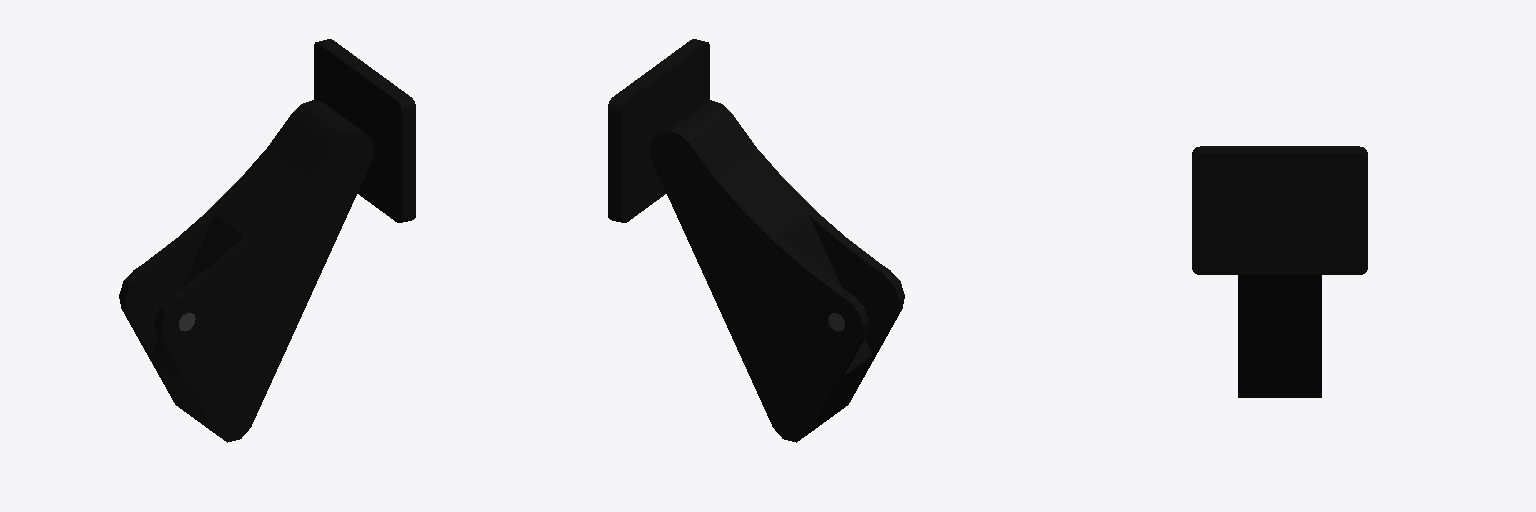
The model's file is ExSupportLegR.obj.
3 views of the same model, side by side, from view 1: azimuth 30°, elevation 25°; view 2: azimuth 150°, elevation 25°; view 3: azimuth 270°, elevation 25° (orthographic).
Parts seen in each view (by area): view 1: instance_0_ID5, group_1.001_ID42; view 2: instance_0_ID5, group_1.001_ID42; view 3: group_1.001_ID42, instance_0_ID5.
Boxes of the visible parts, box(x1,y1,x2,y2) form: instance_0_ID5: box(119, 100, 373, 442); group_1.001_ID42: box(314, 39, 415, 222); instance_0_ID5: box(650, 100, 904, 442); group_1.001_ID42: box(608, 39, 709, 222); group_1.001_ID42: box(1192, 146, 1367, 274); instance_0_ID5: box(1238, 275, 1321, 397).
Bounding box in the file's own units: 0.639 × 0.837 × 0.42.